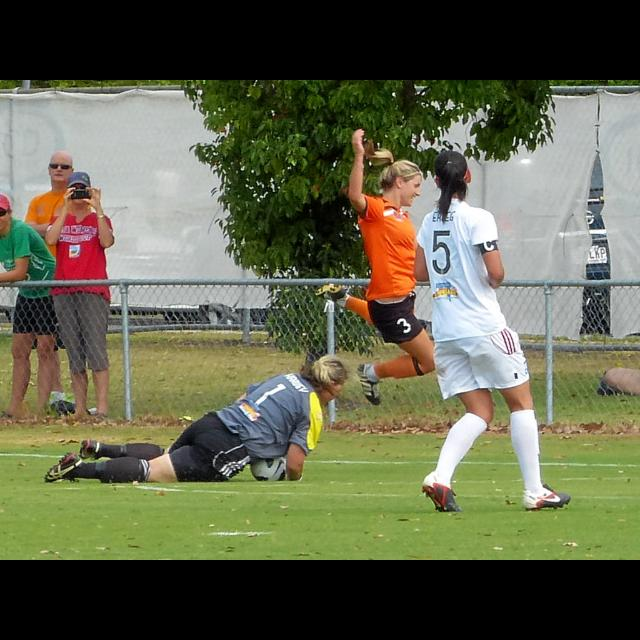Football: (245, 456, 289, 484)
